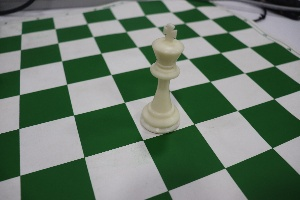white_king: (142, 16, 184, 132)
